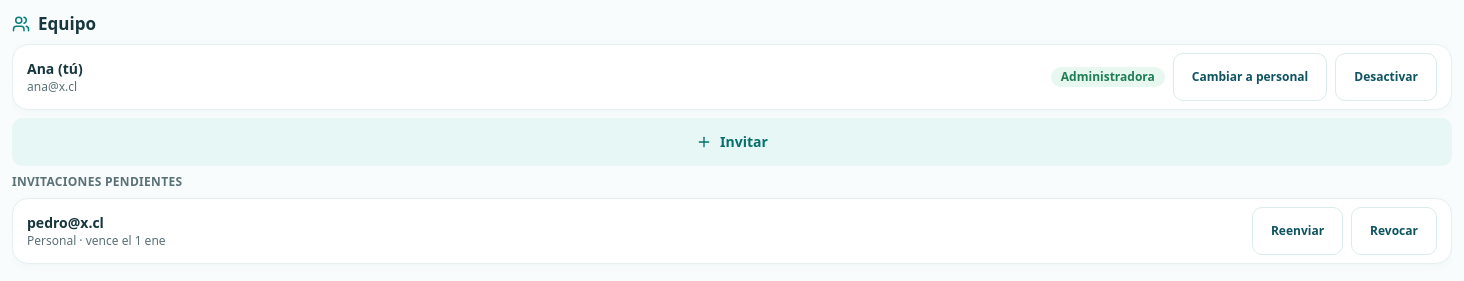
Test: Equipo (spec 014 US5) › revocar quita la invitación de pendientes
The image size is (1464, 281).
Expected: the text "pedro@x.cl" is shown, 27,213 -> 104,232
Click the button "Revocar" at (1394, 231), box 1351,207 -> 1437,255
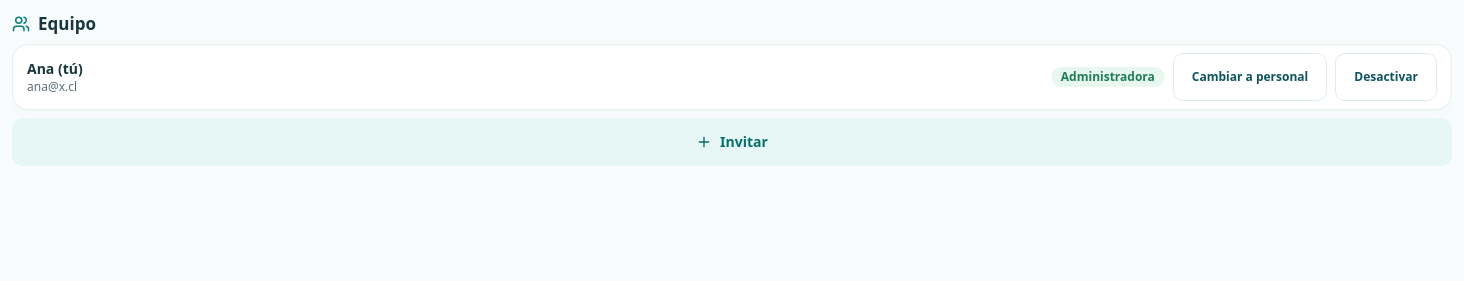
Now the text "pedro@x.cl" is gone
